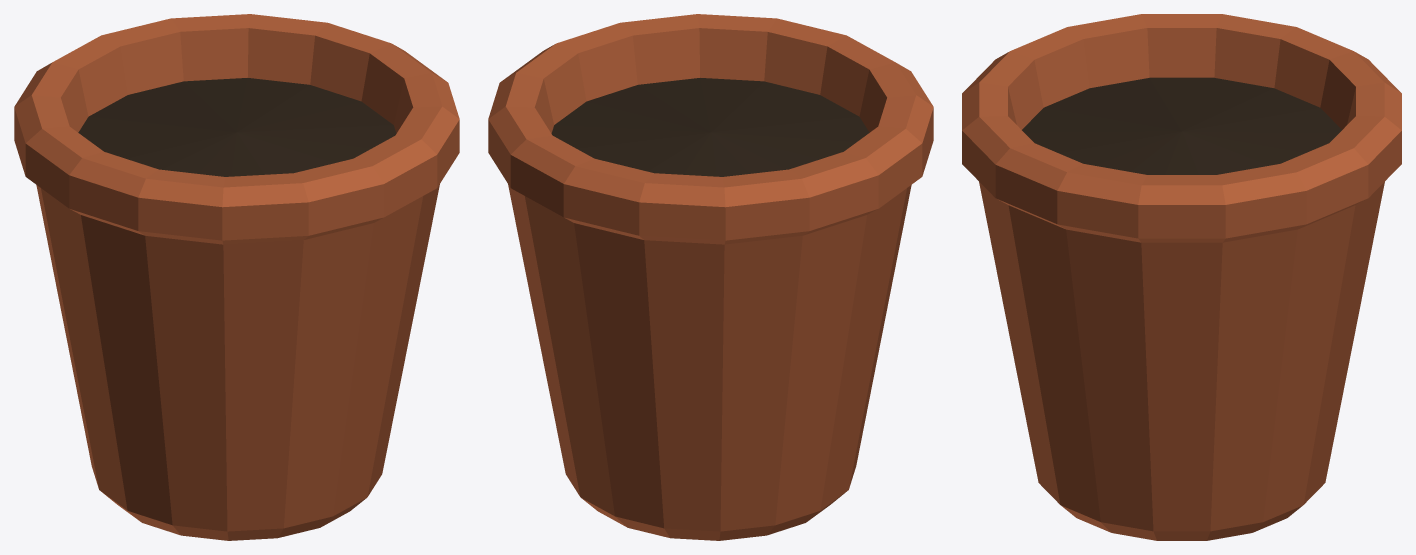
File: SM_Clutter_PlanterRound_Terracotta_01.fbx
The picture shows the model from 3 angles, left to right: view 1: azimuth 30°, elevation 25°; view 2: azimuth 150°, elevation 25°; view 3: azimuth 270°, elevation 25°; orthographic projection.
Visible parts, largest first — view 1: SM_Clutter_PlanterRound_Terracotta_01; view 2: SM_Clutter_PlanterRound_Terracotta_01; view 3: SM_Clutter_PlanterRound_Terracotta_01.
Part boxes in pixels (x1,y1,x2,y2): SM_Clutter_PlanterRound_Terracotta_01: (14, 14, 459, 540); SM_Clutter_PlanterRound_Terracotta_01: (488, 14, 933, 540); SM_Clutter_PlanterRound_Terracotta_01: (962, 14, 1401, 540).
Size of the model in its own units: 0.2256 by 0.22 by 0.2256.
Materials: 1 (1 with a texture image).
